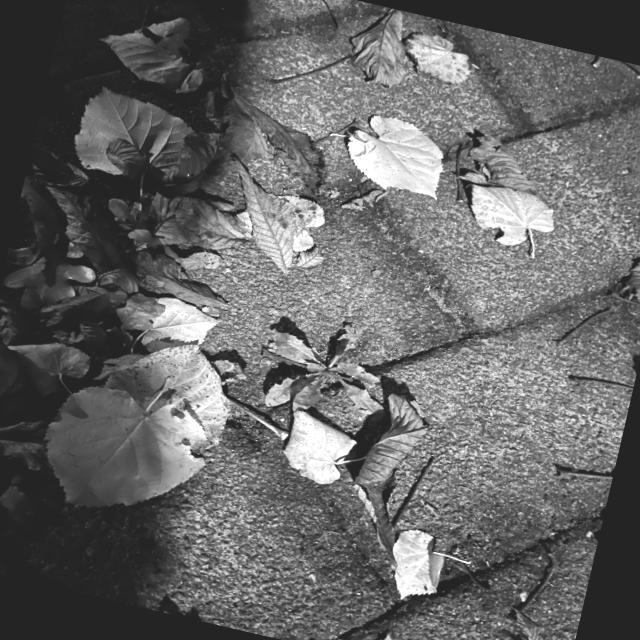leaves: (0, 45, 350, 540)
pavement: (0, 0, 640, 640), (338, 38, 640, 640), (210, 169, 450, 368)
weed: (234, 304, 411, 429), (108, 195, 228, 273)
